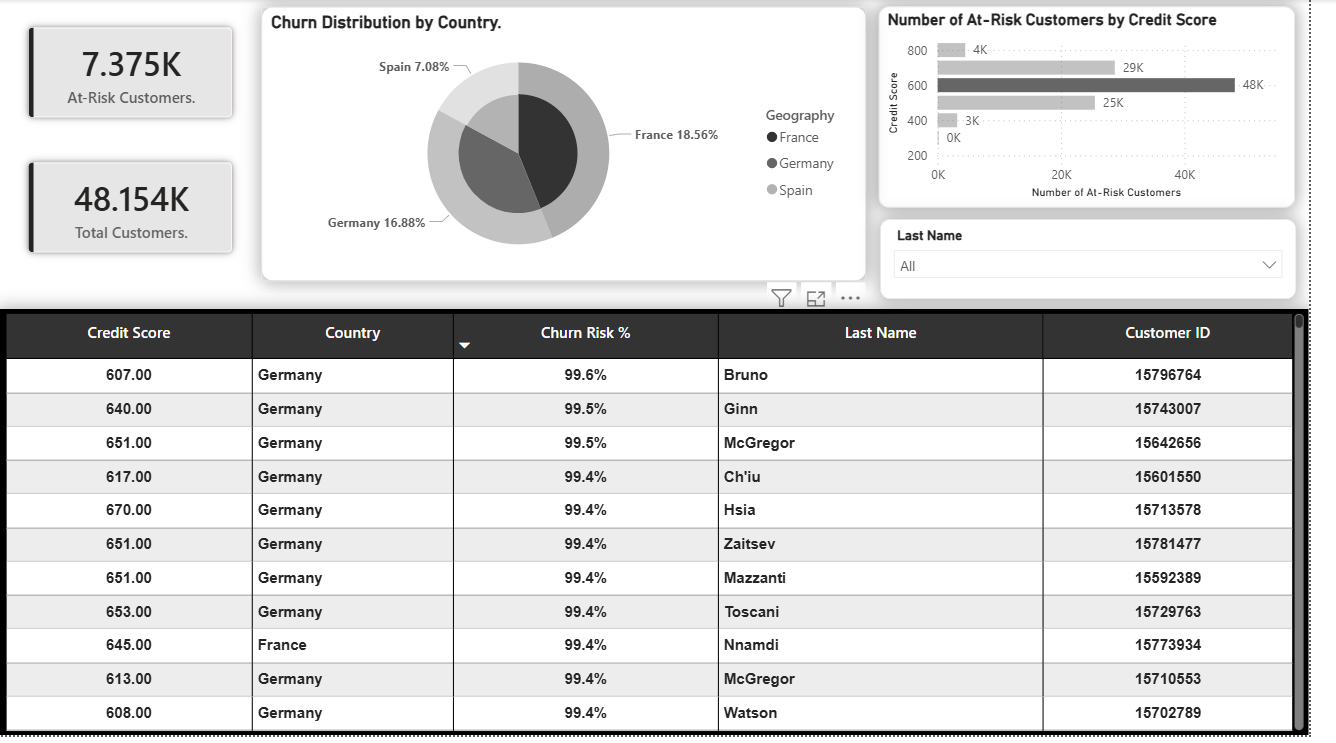

The dashboard page shown, as its layout file describes it:
{"tool":"powerbi","page":{"name":"Page 1","canvas":[1280,720],"ordinal":0},"visuals":[{"type":"cardVisual","fields":{"Data":["CountNonNull(final_churn_predictions.id)"]},"box":[0,132.1,255,144],"z":0},{"type":"cardVisual","fields":{"Data":["CountNonNull(final_churn_predictions.id)"]},"box":[0,0,255.6,144.3],"z":1000},{"type":"pieChart","title":"Churn Distribution by Country.","fields":{"Category":["final_churn_predictions.Geography"],"Y":["Sum(final_churn_predictions.id)"]},"box":[255.6,7.3,591.9,269],"z":2000},{"type":"tableEx","fields":{"Values":["final_churn_predictions.CreditScore","final_churn_predictions.Geography","final_churn_predictions.Churn_Probability","final_churn_predictions.Surname","final_churn_predictions.CustomerId"]},"box":[0,303.3,1280.3,417],"z":3000},{"type":"clusteredBarChart","fields":{"Category":["final_churn_predictions.CreditScore (bins)"],"Y":["CountNonNull(final_churn_predictions.Churn_Probability)"]},"box":[859.7,7.3,407.2,196.9],"z":4000},{"type":"slicer","fields":{"Values":["final_churn_predictions.Surname"]},"box":[860.9,215.2,407.2,78.3],"z":5000}]}

Visuals, with their boxes in screenshot pixels (x1, y1, x2, y2), scaled from the page's 1280x720 canvas onto the 1336x743 screenshot:
cardVisual - CountNonNull(final_churn_predictions.id): region(0, 136, 266, 285)
cardVisual - CountNonNull(final_churn_predictions.id): region(0, 0, 267, 149)
"Churn Distribution by Country." pieChart: region(267, 8, 885, 285)
tableEx - final_churn_predictions.CreditScore x final_churn_predictions.Geography: region(0, 313, 1335, 742)
clusteredBarChart - final_churn_predictions.CreditScore (bins) x CountNonNull(final_churn_predictions.Churn_Probability): region(897, 8, 1322, 211)
slicer - final_churn_predictions.Surname: region(899, 222, 1324, 303)
